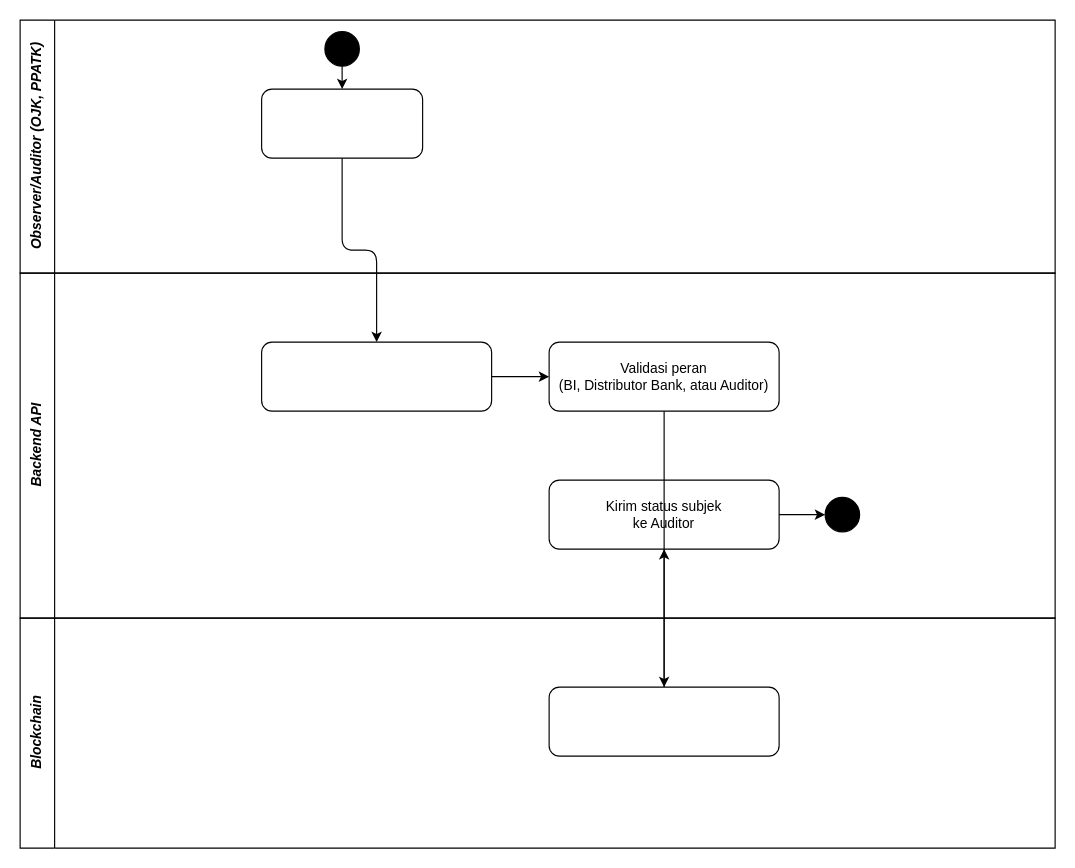
Some shapes in this 1075 by 868 pixel diagram are drawn without their labels. The centre of each missing label's shape, as x and y in pixels:
Akses status subjek: the point at 341,123
GetSubject() Kembalikan status subjek: the point at 663,721
Terima request GET /subjects/{subject_id}: the point at 376,376
